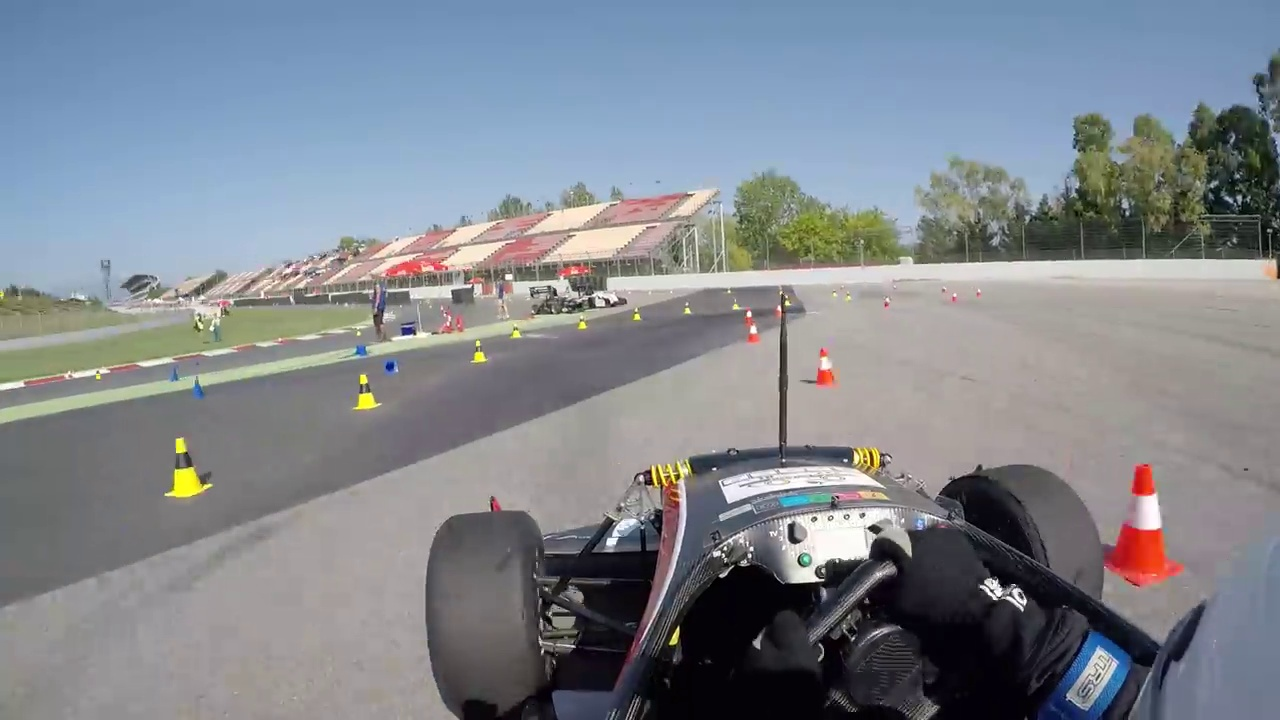Cone: (1103, 462, 1177, 585), (166, 434, 212, 497), (354, 372, 380, 414), (816, 348, 836, 386), (470, 338, 486, 363)
